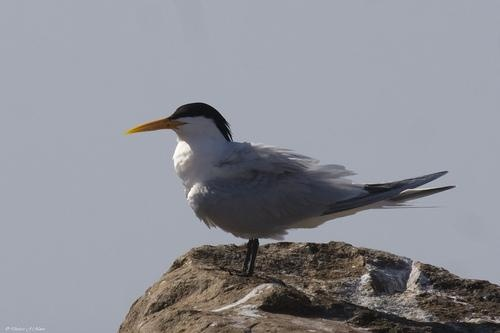bird: (122, 103, 456, 255)
